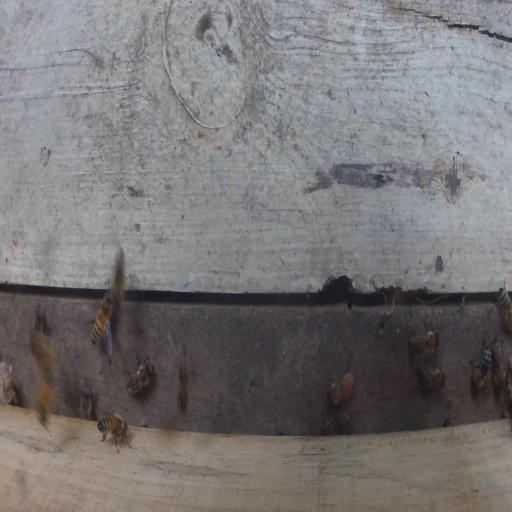bee: (324, 357, 355, 414), (467, 329, 493, 391), (88, 292, 114, 344), (176, 340, 192, 416), (319, 407, 358, 438), (97, 414, 131, 449), (407, 326, 440, 360), (29, 297, 47, 359), (125, 360, 154, 398), (493, 277, 511, 335), (413, 365, 447, 393), (492, 337, 506, 390), (79, 386, 96, 421)
